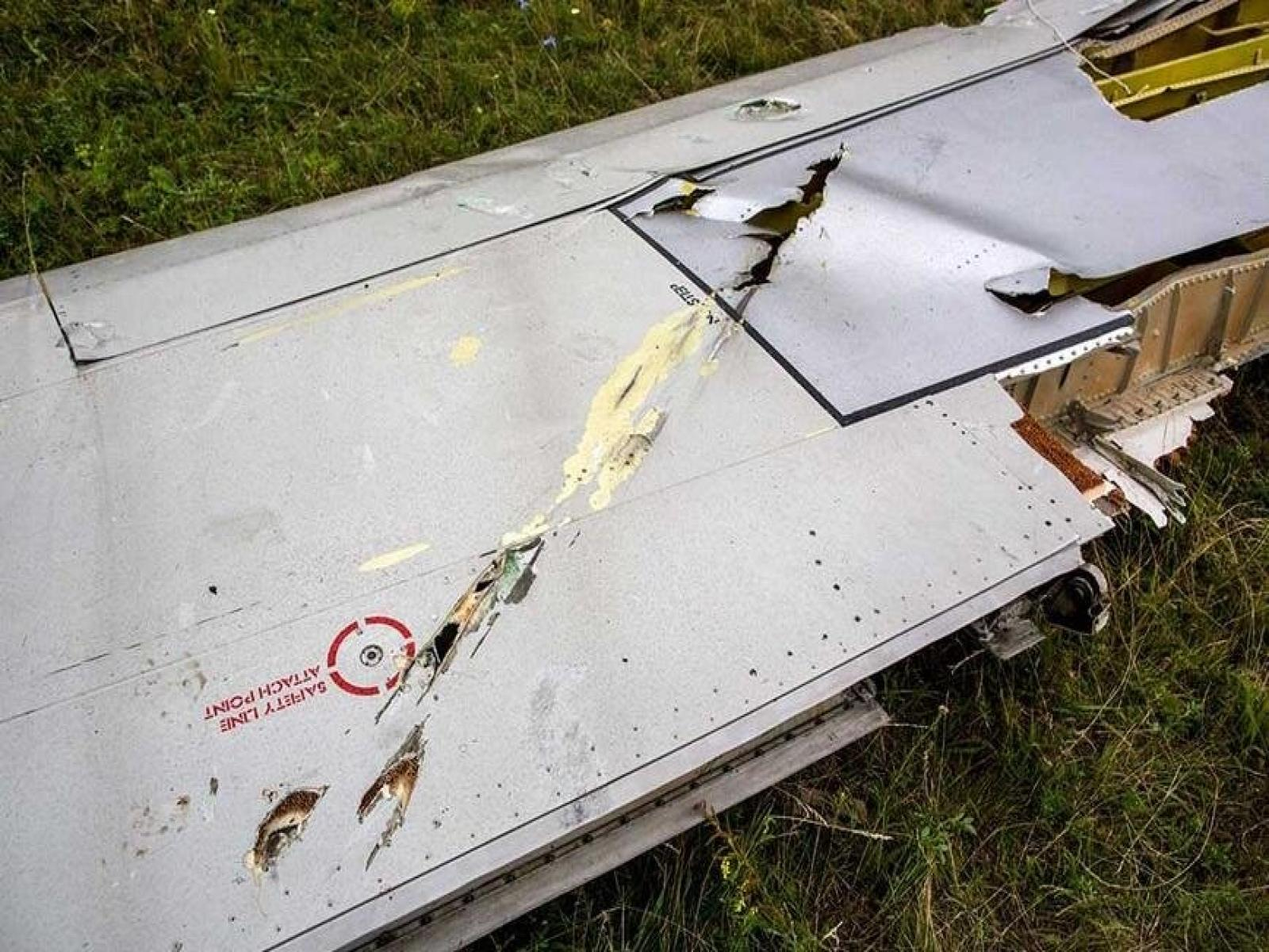Wing_damage: (557, 300, 730, 508), (398, 533, 544, 702), (1073, 370, 1228, 526), (1075, 0, 1268, 119), (636, 151, 841, 240), (987, 243, 1227, 312), (627, 203, 784, 292), (358, 722, 423, 867), (247, 789, 325, 872), (501, 515, 553, 548)
